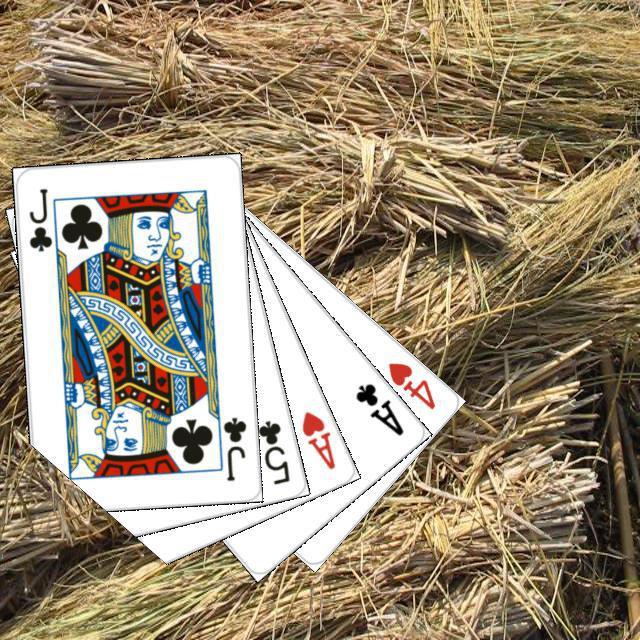4h: (383, 357, 437, 412)
5c: (253, 415, 292, 487)
Ac: (350, 378, 406, 438)
Ah: (296, 406, 337, 471)
Jc: (218, 412, 248, 483), (24, 183, 54, 254)
